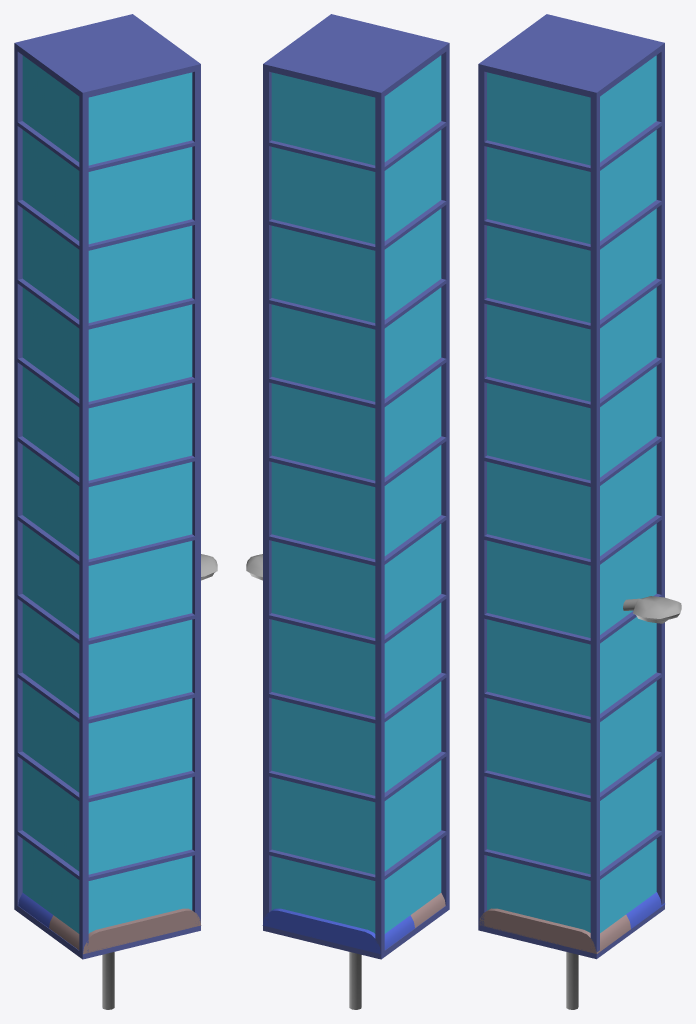
File: Jumping.Boddy.fbx
3 renders of one model, left to right at view 1: azimuth 30°, elevation 25°; view 2: azimuth 150°, elevation 25°; view 3: azimuth 330°, elevation 25°, orthographic.
Visible parts, largest first — view 1: Cube.009, Cube, Object; view 2: Cube.009, Cube, Object; view 3: Cube.009, Cube, Object.
Boxes of the visible parts, <box> form: Cube.009: <box>14,14,200,959</box>; Cube: <box>18,893,201,954</box>; Object: <box>102,554,217,1009</box>; Cube.009: <box>263,14,449,959</box>; Cube: <box>262,893,445,954</box>; Object: <box>246,554,361,1009</box>; Cube.009: <box>478,14,664,959</box>; Cube: <box>479,892,664,953</box>; Object: <box>566,596,681,1009</box>.
Size of the model in its own units: 284 by 1541 by 200.
